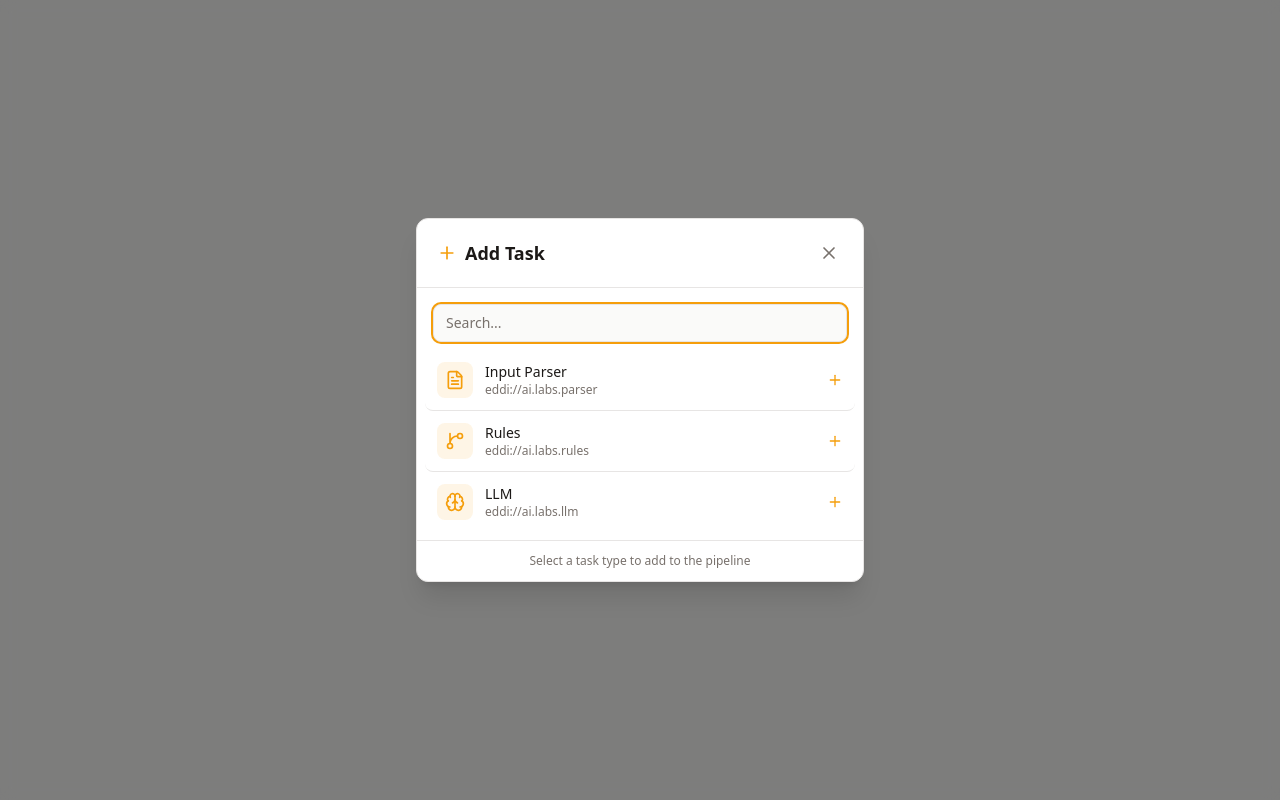
Test case: AddExtensionDialog › shows step 2 when selecting LLM (has resource store)
Click the button with test id "ext-option-eddi://ai.labs.llm".
click(455, 502)  # box [425,472,855,532]
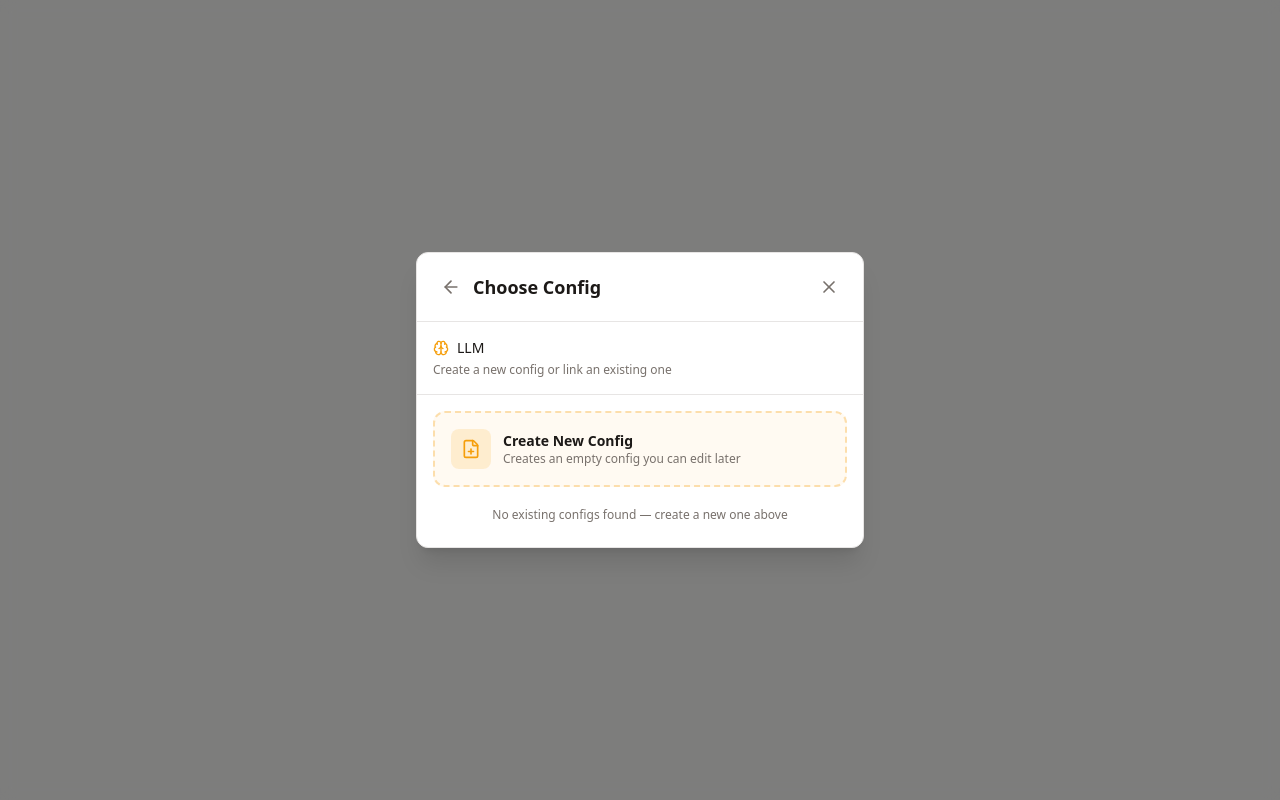
Now the heading "Choose Config" is shown, box [473,273,601,301]
Now the button with test id "create-new-config" is shown, box [433,411,847,487]
Now the button with test id "back-to-types" is shown, box [437,273,465,301]
